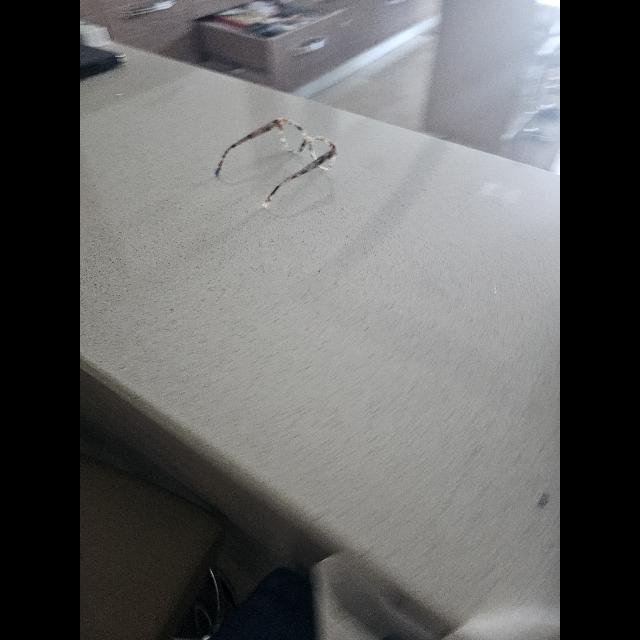glasses: (216, 119, 338, 208)
